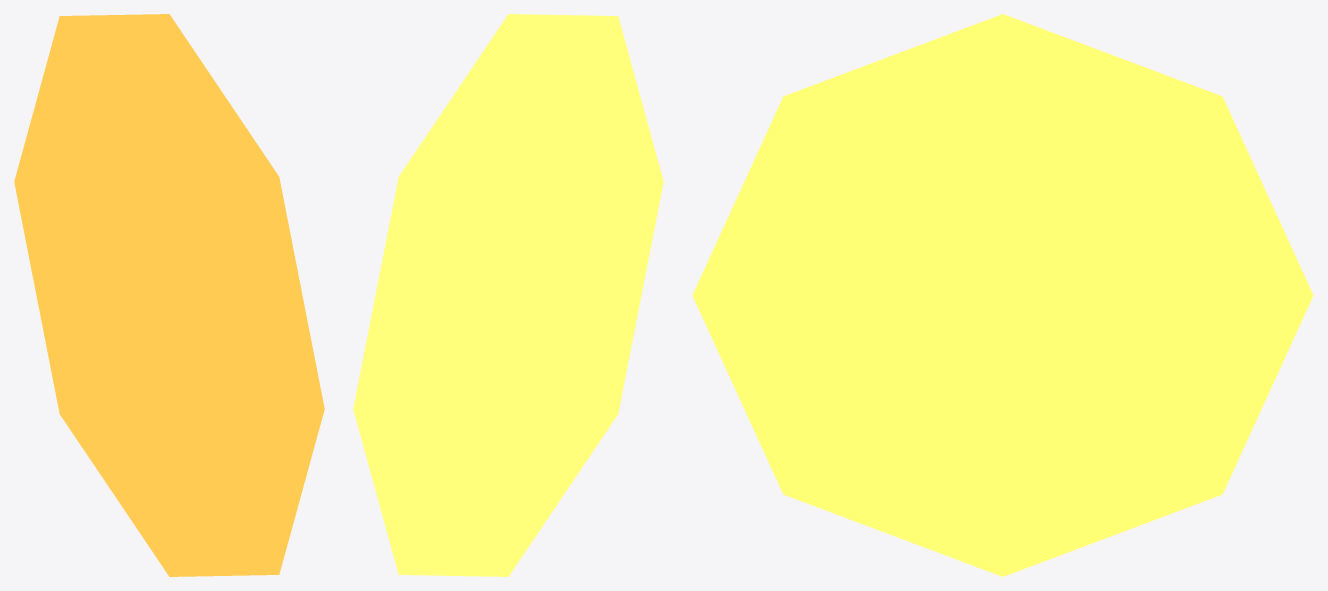
Rendered from statueFireGlow.glb.
The picture shows the model from 3 angles, left to right: view 1: azimuth 30°, elevation 25°; view 2: azimuth 150°, elevation 25°; view 3: azimuth 270°, elevation 25°; orthographic projection.
Parts seen in each view (by area): view 1: fireRockGlow; view 2: fireRockGlow; view 3: fireRockGlow.
Part boxes in pixels (<box>): fireRockGlow: <box>14,14,324,576</box>; fireRockGlow: <box>353,14,663,576</box>; fireRockGlow: <box>692,14,1313,576</box>.
Bounding box in the file's own units: 5.96e-08 × 0.9597 × 0.9597.
